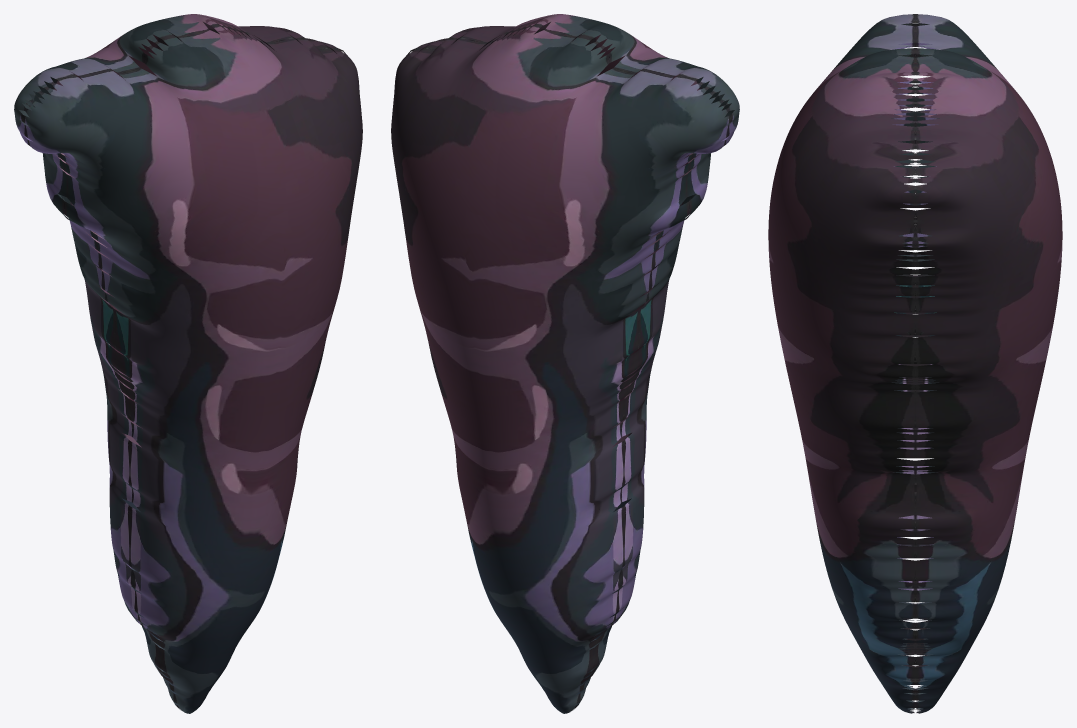
Rendered from violet_cliff.glb.
The picture shows the model from 3 angles, left to right: view 1: azimuth 30°, elevation 25°; view 2: azimuth 150°, elevation 25°; view 3: azimuth 270°, elevation 25°; orthographic projection. The views are drawn at different scales.
Parts seen in each view (by area): view 1: violet_cliff; view 2: violet_cliff; view 3: violet_cliff.
Boxes of the visible parts, <box> form: violet_cliff: <box>14,14,362,713</box>; violet_cliff: <box>391,14,739,713</box>; violet_cliff: <box>768,14,1062,713</box>.
Size of the model in its own units: 0.9779 by 1.96 by 0.7978.
Materials: 1 (1 with a texture image).
